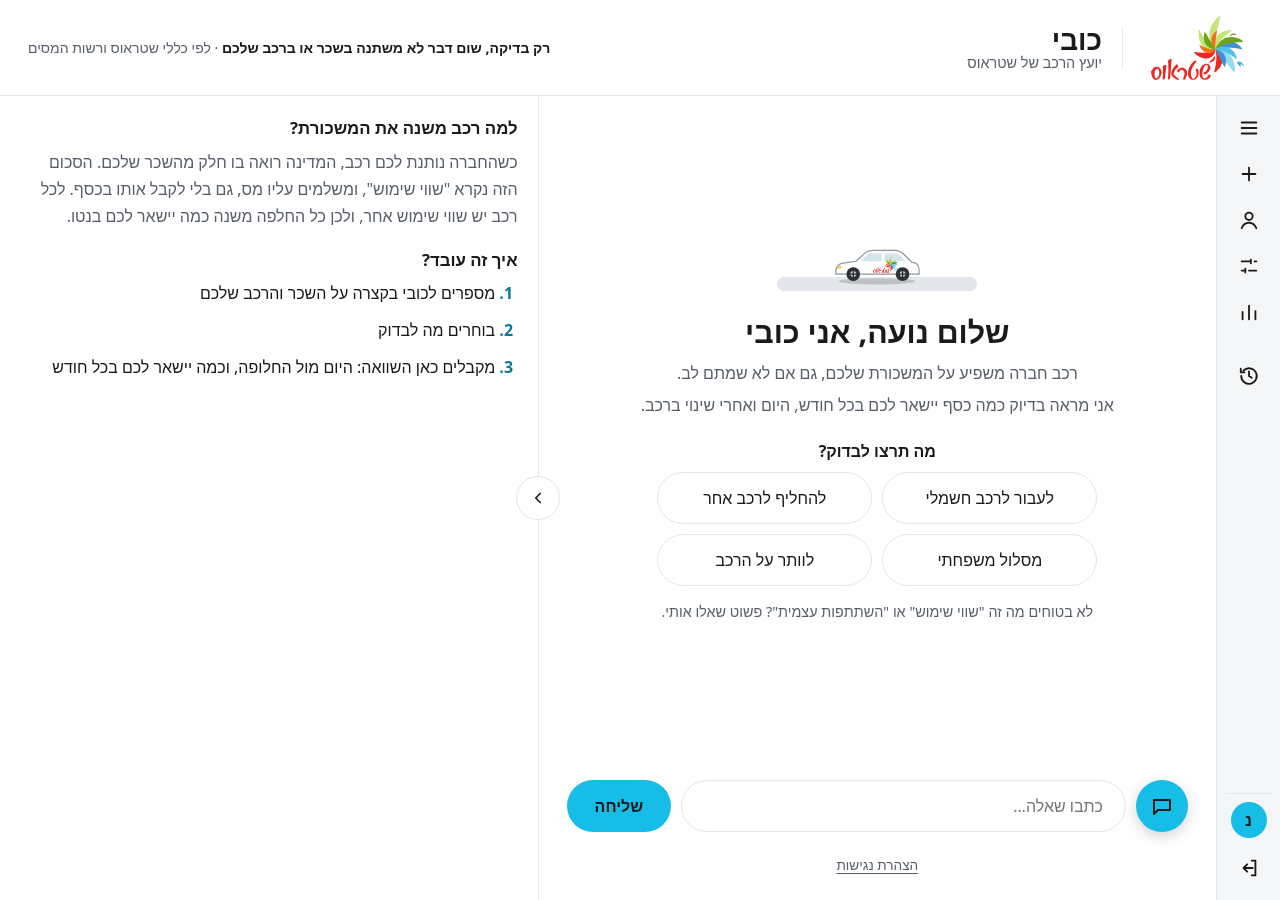
it: the sidebar on a computer › no conversations yet: says so
This screenshot has width=1280, height=900.
Click the button named "סרגל הצד": (1248, 128) [1225,106,1272,150]
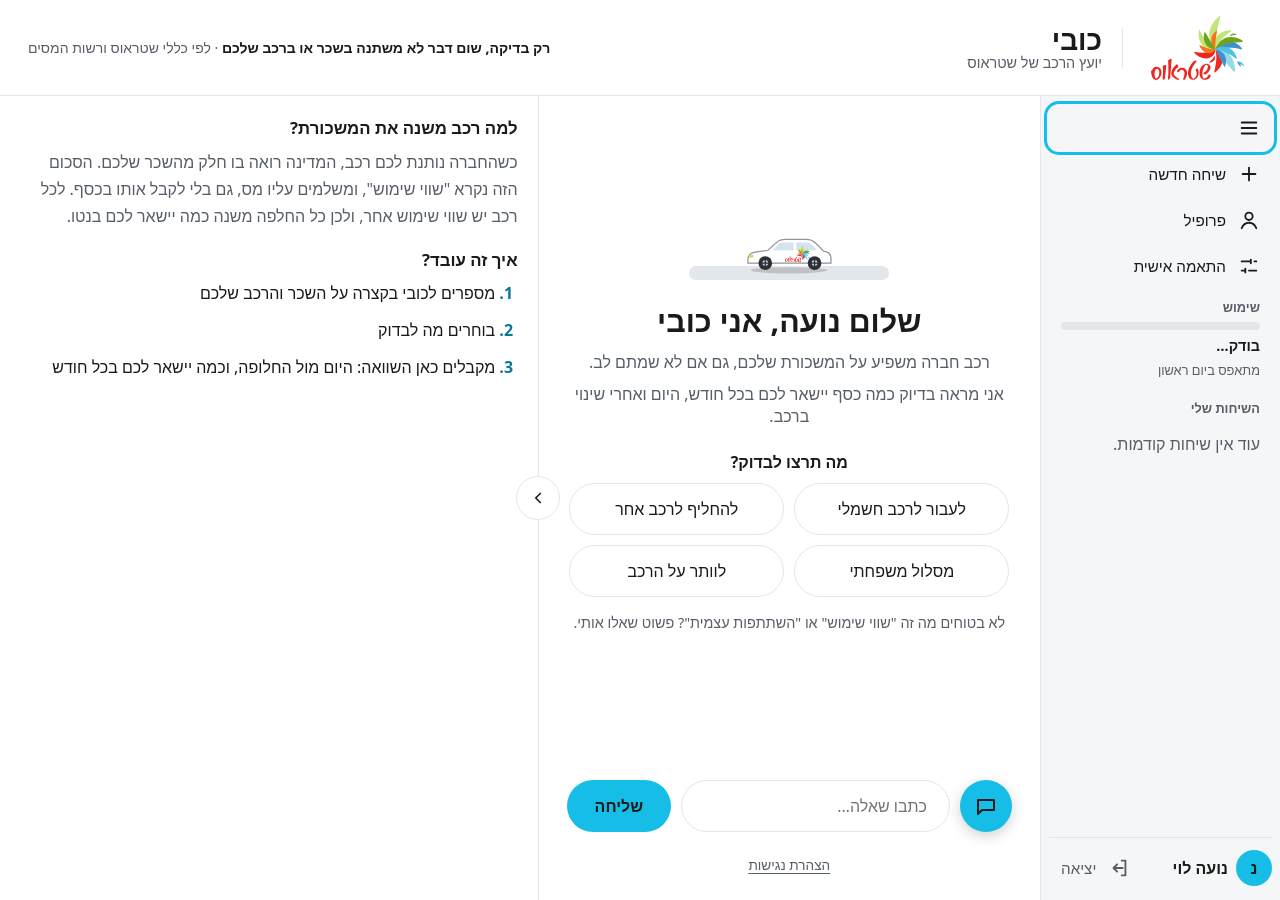
expect the text "עוד אין שיחות קודמות." is shown: met, box [1113,433,1260,455]
